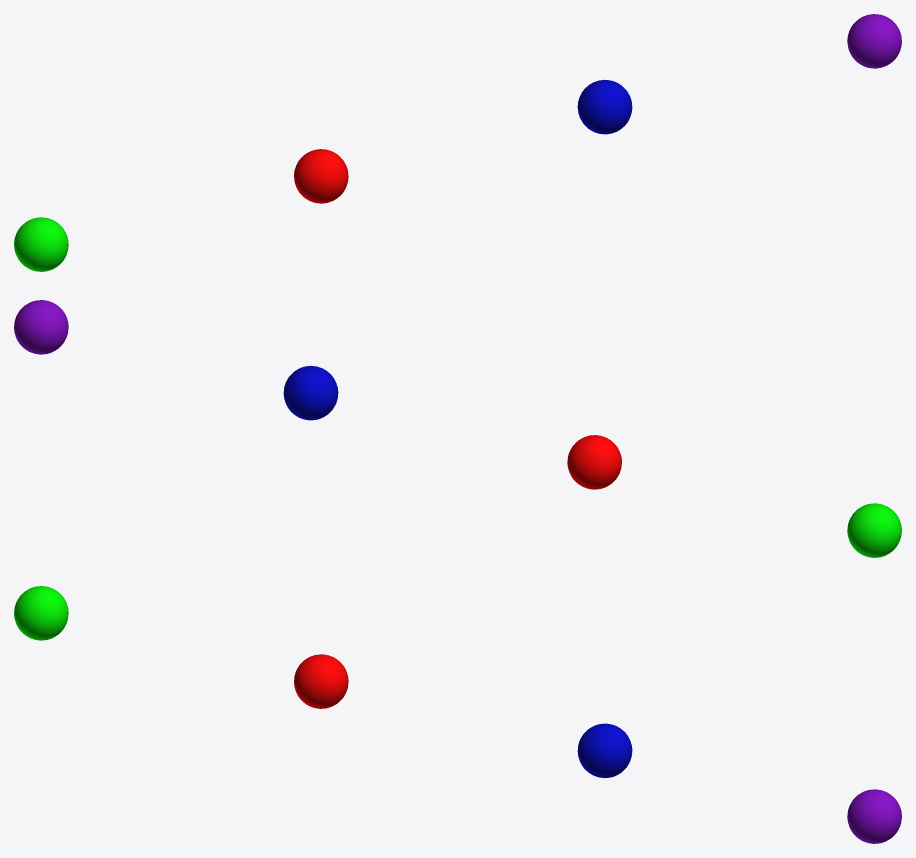
File: GameObject.fbx
The picture shows the model from 3 angles, top to bottom: view 1: azimuth 30°, elevation 25°; view 2: azimuth 150°, elevation 25°; view 3: azimuth 330°, elevation 25°; orthographic projection.
Parts seen in each view (by area): view 1: Fear, Happy, Angry, Sad; view 2: Fear, Angry, Happy, Sad; view 3: Angry, Fear, Happy, Sad.
Boxes of the visible parts, x1,y1,x2,y2 form: Fear: [847, 14, 901, 68]; Happy: [14, 217, 68, 271]; Angry: [294, 149, 348, 203]; Sad: [577, 79, 632, 134]; Fear: [14, 300, 68, 354]; Angry: [567, 435, 621, 489]; Happy: [847, 503, 901, 557]; Sad: [283, 365, 338, 420]; Angry: [294, 654, 348, 708]; Fear: [847, 789, 901, 843]; Happy: [14, 586, 68, 640]; Sad: [577, 723, 632, 778].
Size of the model in its own units: 371 by 20 by 20.
